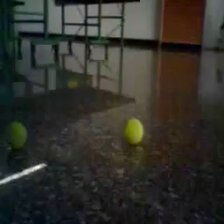tennis: (7, 121, 28, 150), (124, 119, 146, 143)
